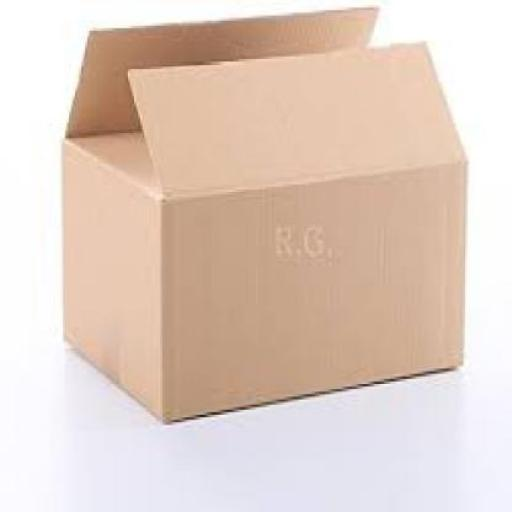cardboard: (58, 3, 464, 422)
